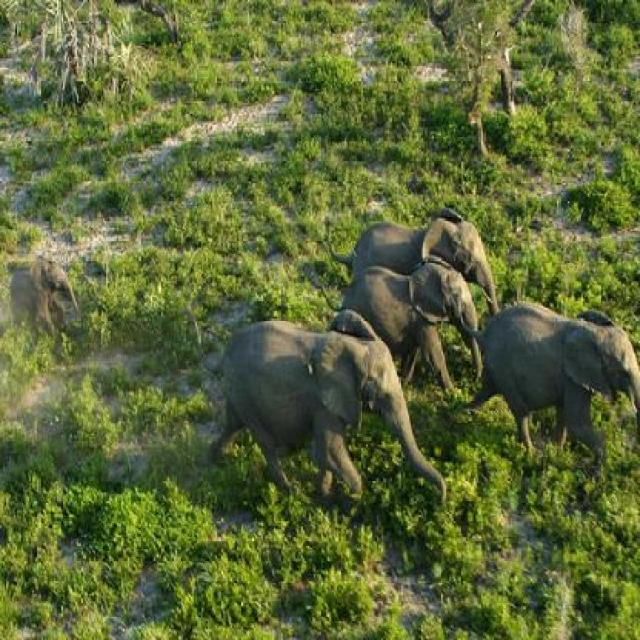elephant: (225, 300, 426, 512), (483, 297, 640, 461), (352, 264, 480, 394), (360, 206, 500, 319)
